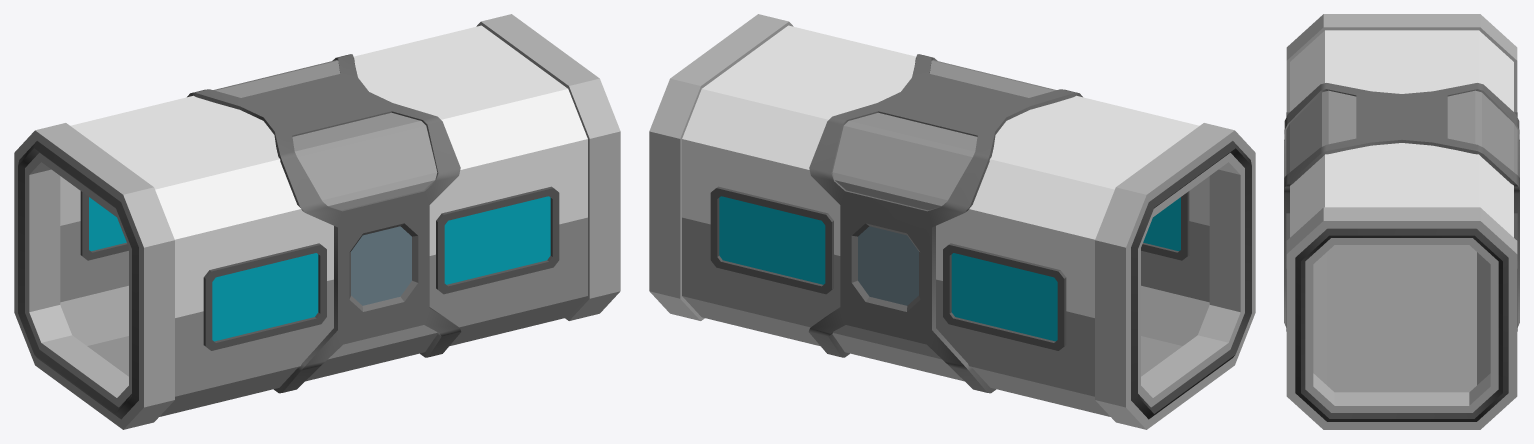
File: section_010.fbx
3 views of the same model, side by side, from view 1: azimuth 30°, elevation 25°; view 2: azimuth 150°, elevation 25°; view 3: azimuth 270°, elevation 25° (orthographic). The views are drawn at different scales.
Visible parts, largest first — view 1: section_010; view 2: section_010; view 3: section_010.
Boxes of the visible parts, x1,y1,x2,y2 form: section_010: [14, 14, 620, 429]; section_010: [649, 14, 1255, 429]; section_010: [1284, 14, 1519, 429].
Size of the model in its own units: 703 by 333 by 329.
